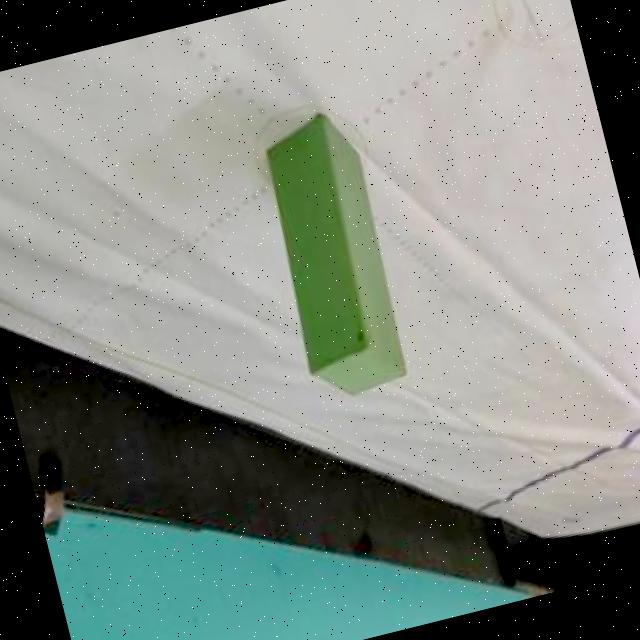greenbox: (245, 103, 412, 407)
